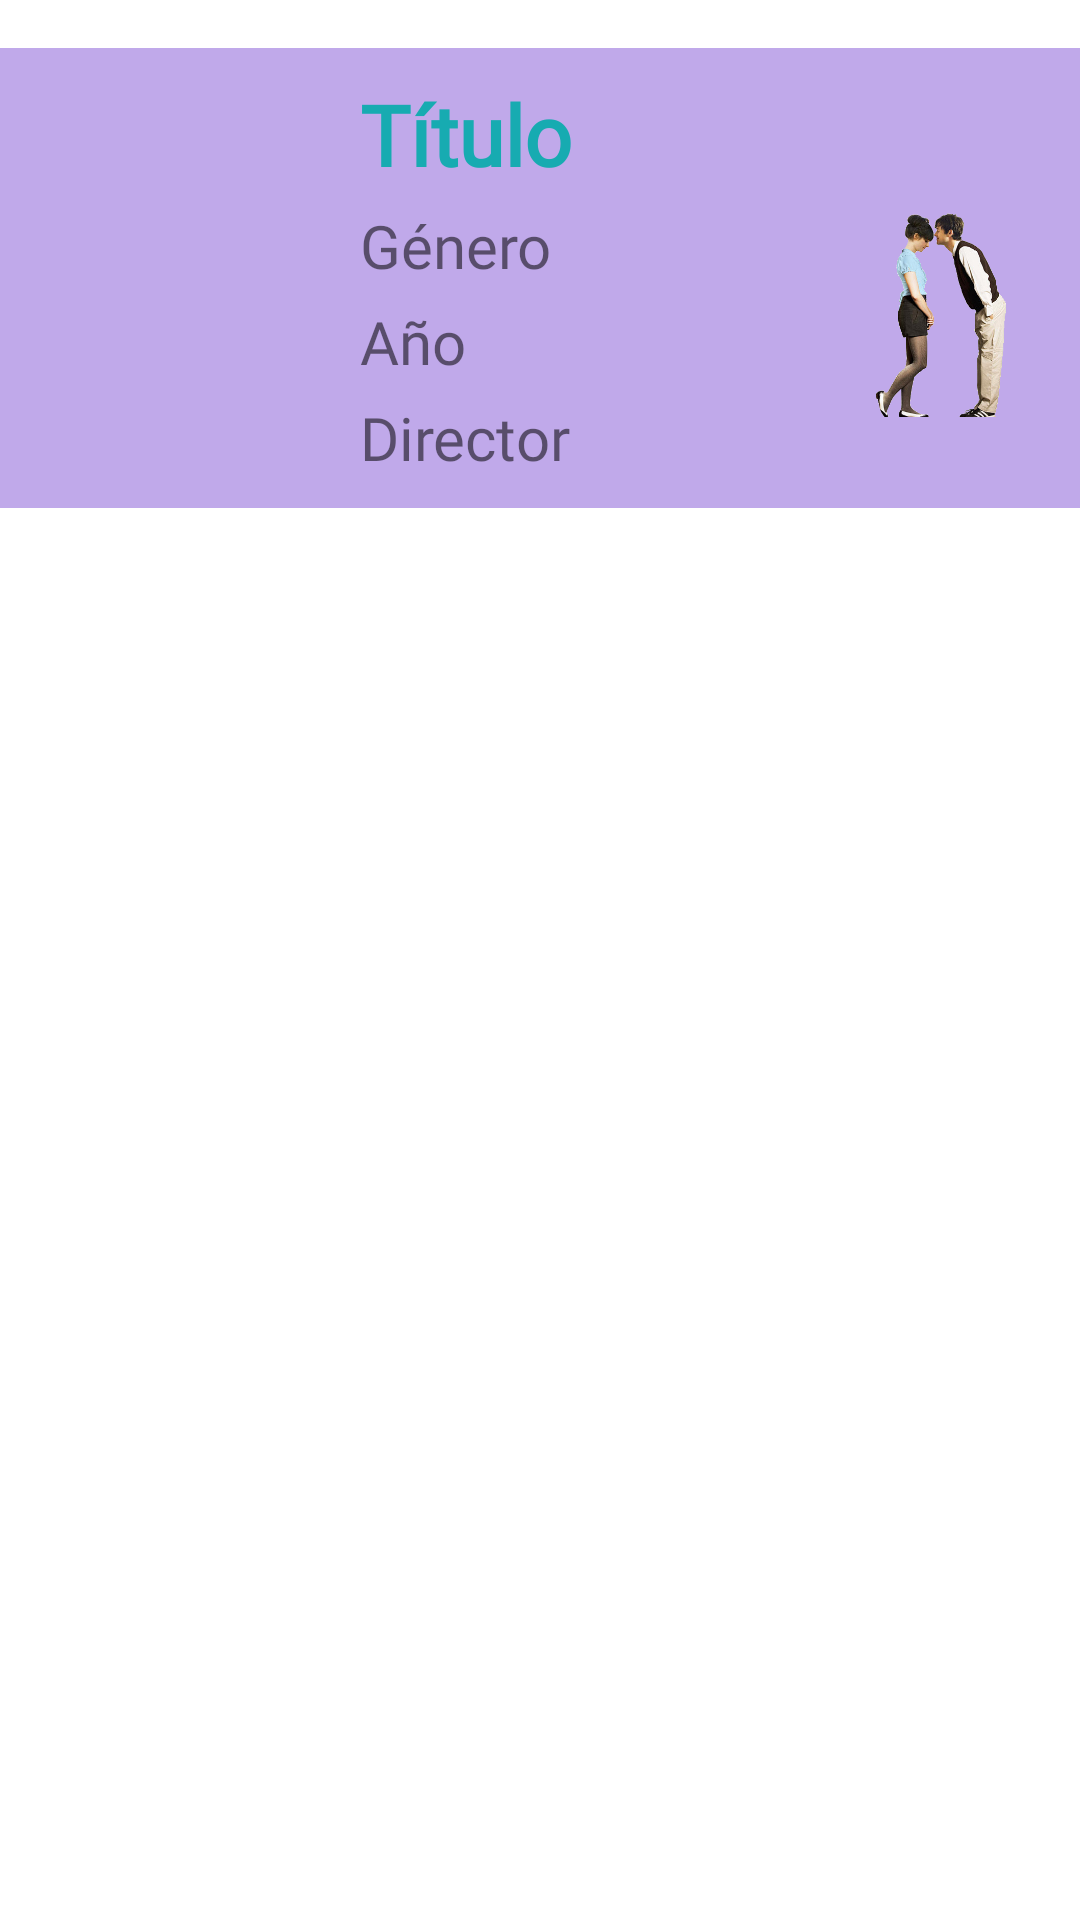

Screen size 1080px×1920px. Icon name, then its box in pixels as [x1, y1, x2, y2]:
romance: [876, 213, 1006, 417]
